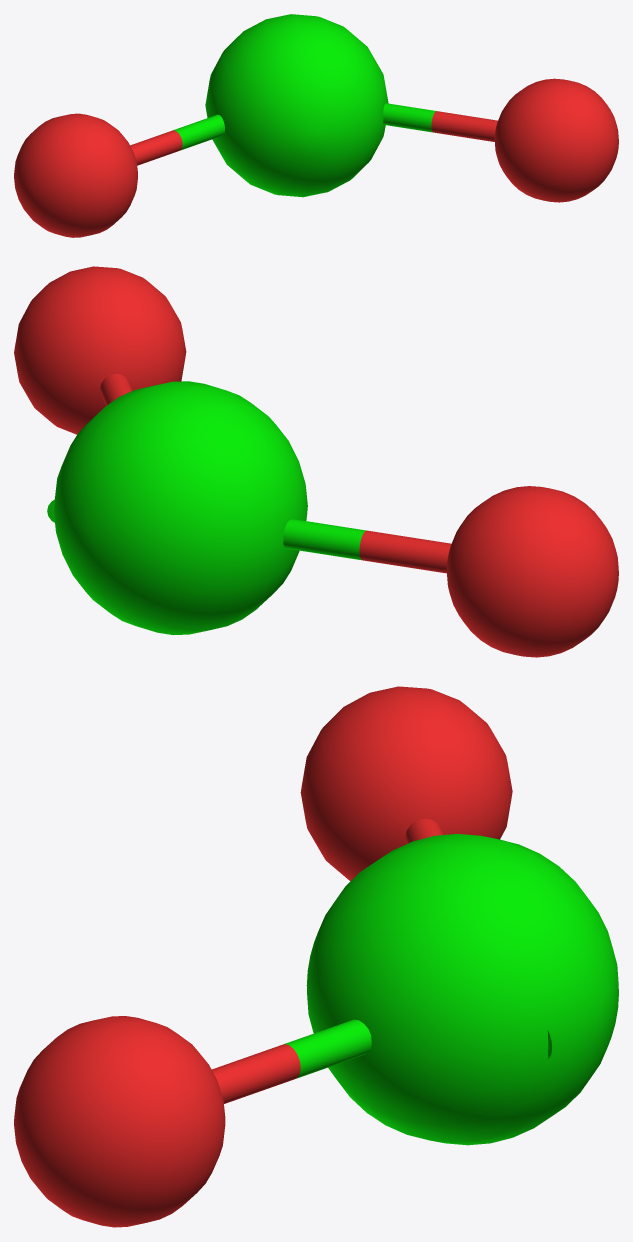
File: CaO2.fbx
3 renders of one model, top to bottom at view 1: azimuth 30°, elevation 25°; view 2: azimuth 150°, elevation 25°; view 3: azimuth 270°, elevation 25°, orthographic. The views are drawn at different scales.
Parts seen in each view (by area): view 1: CaO2; view 2: CaO2; view 3: CaO2.
Part boxes in pixels (<box>): CaO2: <box>14,14,618,237</box>; CaO2: <box>14,266,618,657</box>; CaO2: <box>14,686,618,1227</box>.
Bounding box in the file's own units: 8.65 × 2.73 × 5.28.
